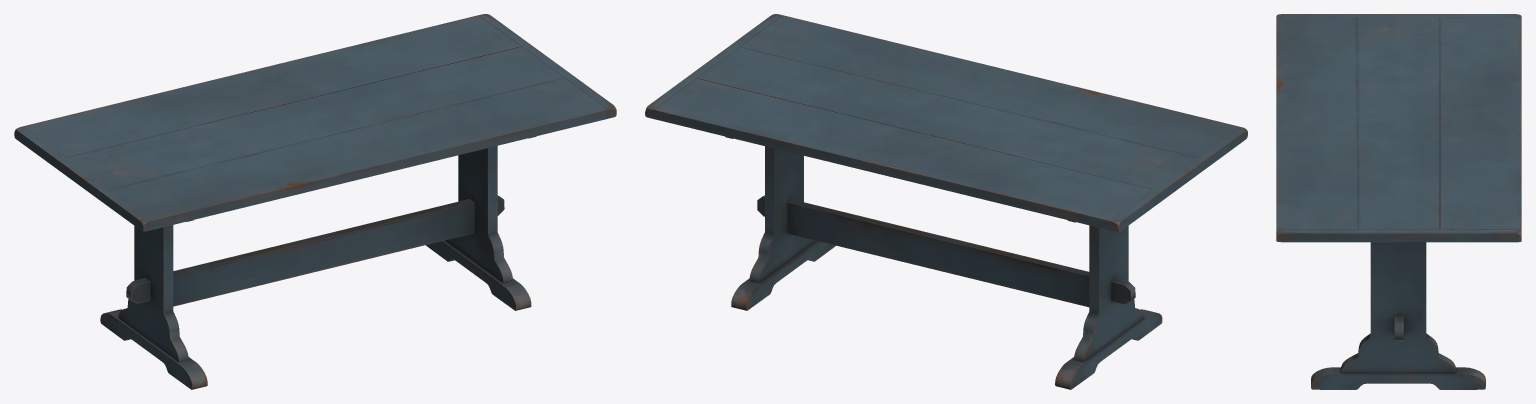
The model's file is ph-painted_wooden_table.glb.
3 renders of one model, left to right at view 1: azimuth 30°, elevation 25°; view 2: azimuth 150°, elevation 25°; view 3: azimuth 270°, elevation 25°, orthographic. The views are drawn at different scales.
Visible parts, largest first — view 1: painted_wooden_table; view 2: painted_wooden_table; view 3: painted_wooden_table.
Part boxes in pixels (x1=…): painted_wooden_table: x1=14, y1=14, x2=616, y2=389; painted_wooden_table: x1=645, y1=14, x2=1247, y2=389; painted_wooden_table: x1=1276, y1=14, x2=1521, y2=389.
Size of the model in its own units: 1 by 0.3985 by 0.4726.
1 material, 1 textured.
